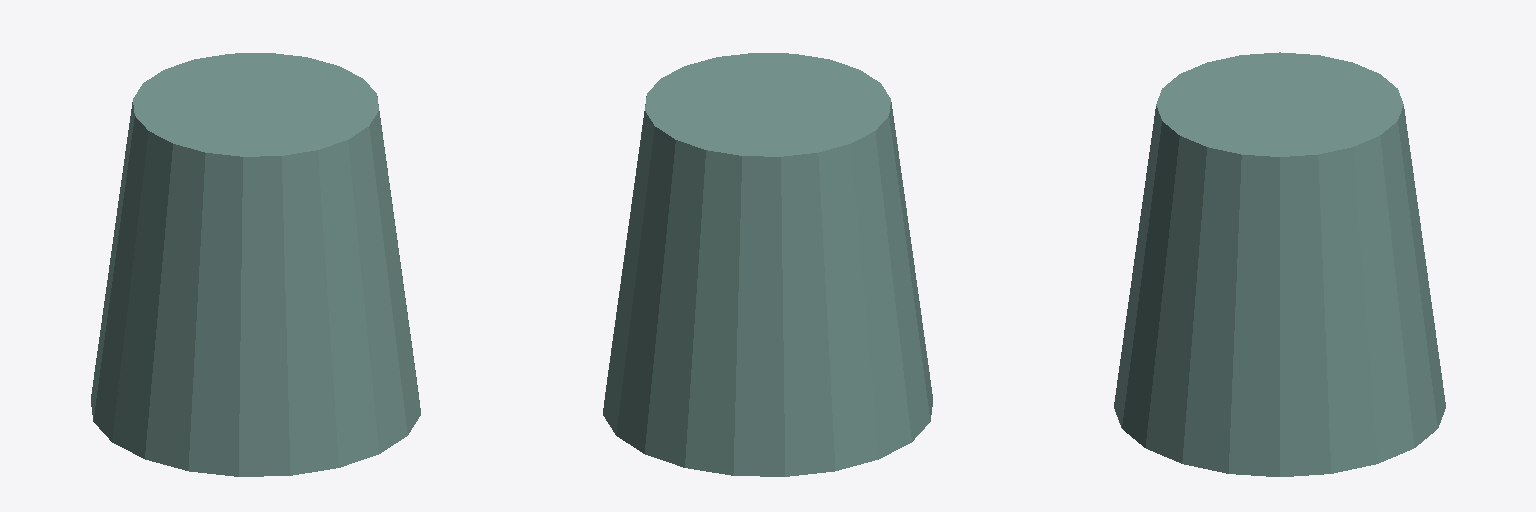
File: LightBottom.obj
3 views of the same model, side by side, from view 1: azimuth 30°, elevation 25°; view 2: azimuth 150°, elevation 25°; view 3: azimuth 270°, elevation 25° (orthographic).
Bounding box in the file's own units: 0.9966 × 1 × 0.9966.